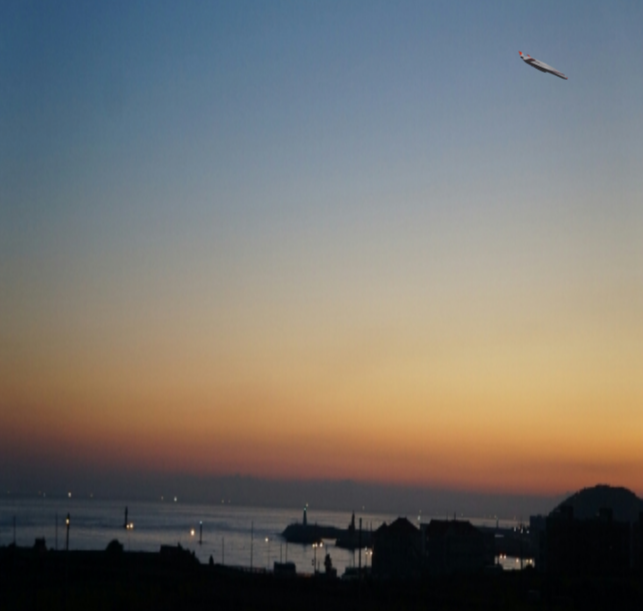military drone: (518, 49, 568, 79)
